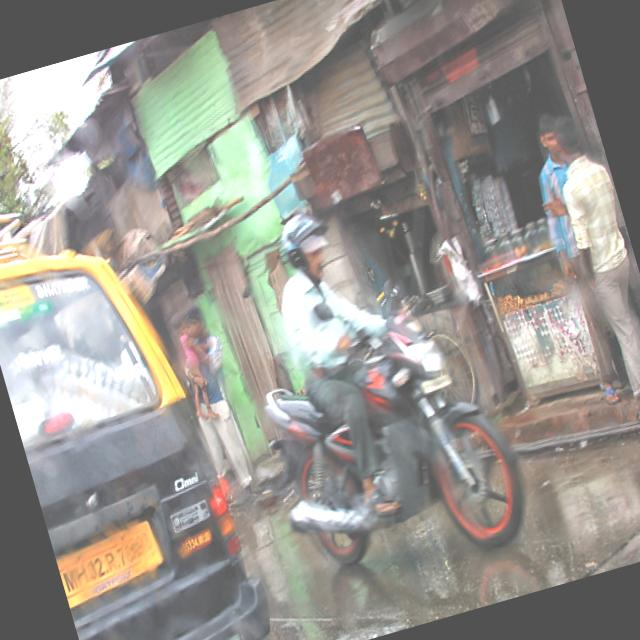Vehicle: (0, 167, 287, 640), (0, 221, 288, 640), (237, 284, 540, 602)
